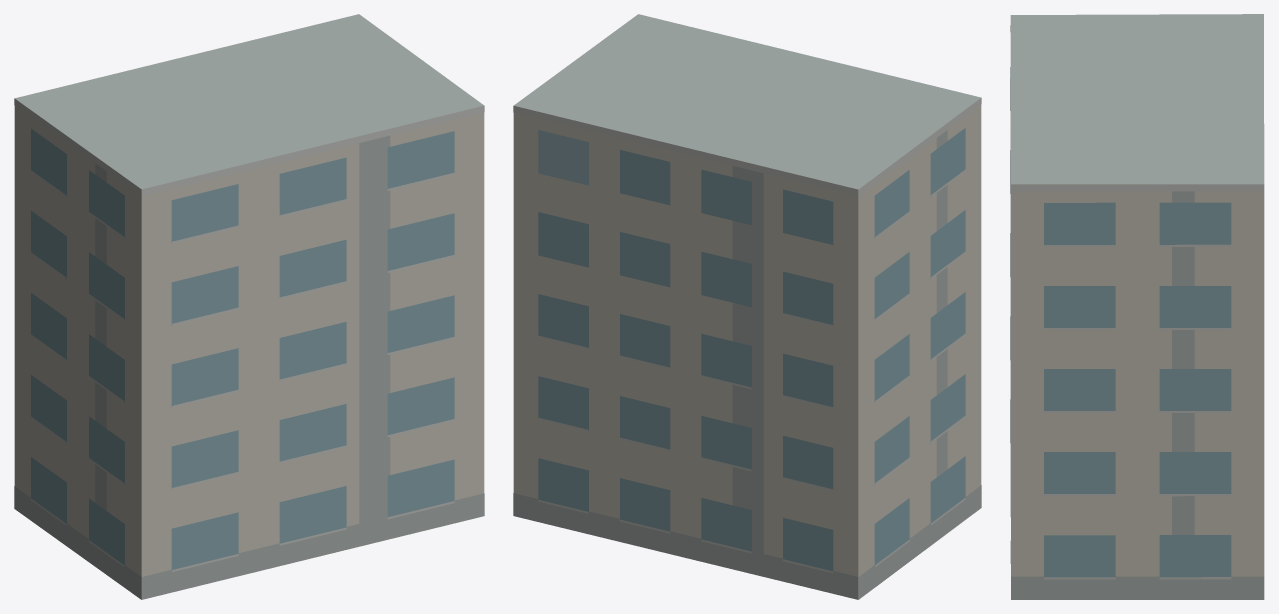
Rendered from survey-upis-33027564.glb.
3 renders of one model, left to right at view 1: azimuth 30°, elevation 25°; view 2: azimuth 150°, elevation 25°; view 3: azimuth 270°, elevation 25°, orthographic.
Parts seen in each view (by area): view 1: survey-upis-33027564.tmp; view 2: survey-upis-33027564.tmp; view 3: survey-upis-33027564.tmp.
Boxes of the visible parts, x1,y1,x2,y2 form: survey-upis-33027564.tmp: (14, 14, 484, 599); survey-upis-33027564.tmp: (513, 14, 981, 599); survey-upis-33027564.tmp: (1010, 14, 1264, 599).
Bounding box in the file's own units: 12.77 × 14.5 × 8.05.
